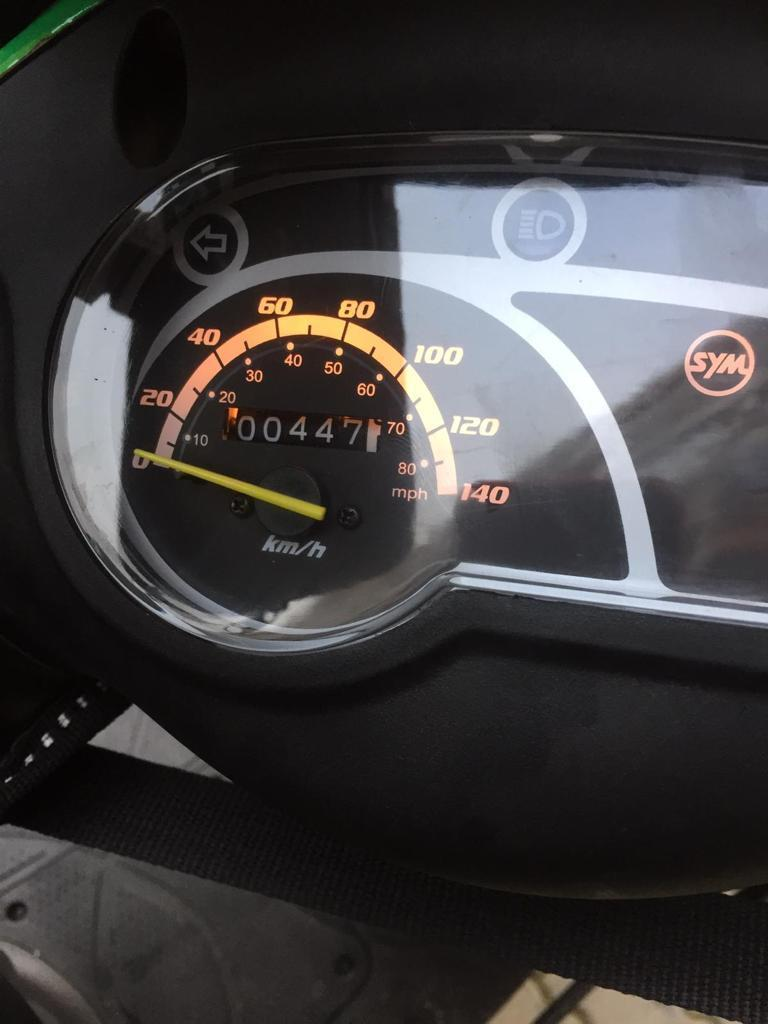0: (234, 413, 256, 442), (262, 414, 283, 444)
1: (372, 430, 383, 453)
4: (313, 415, 334, 444), (289, 414, 308, 442)
7: (342, 415, 363, 446)
odometer: (219, 402, 387, 454)
